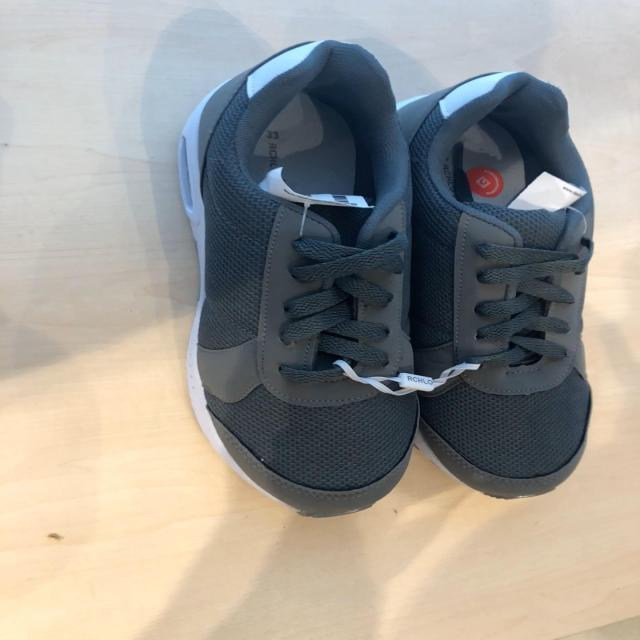shoe: (181, 40, 425, 519), (419, 70, 592, 501)
